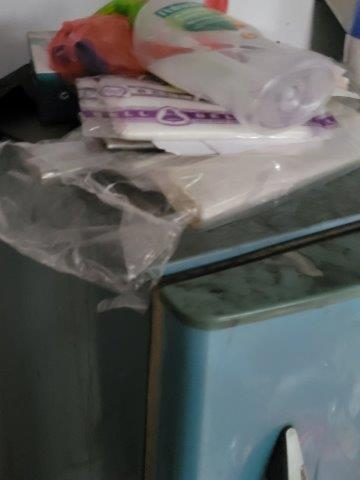plastik: (42, 74, 360, 216)
